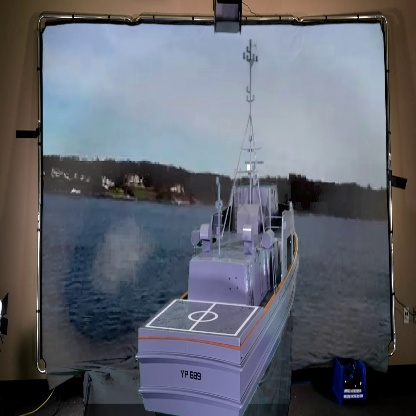YP689: (134, 38, 302, 416)
